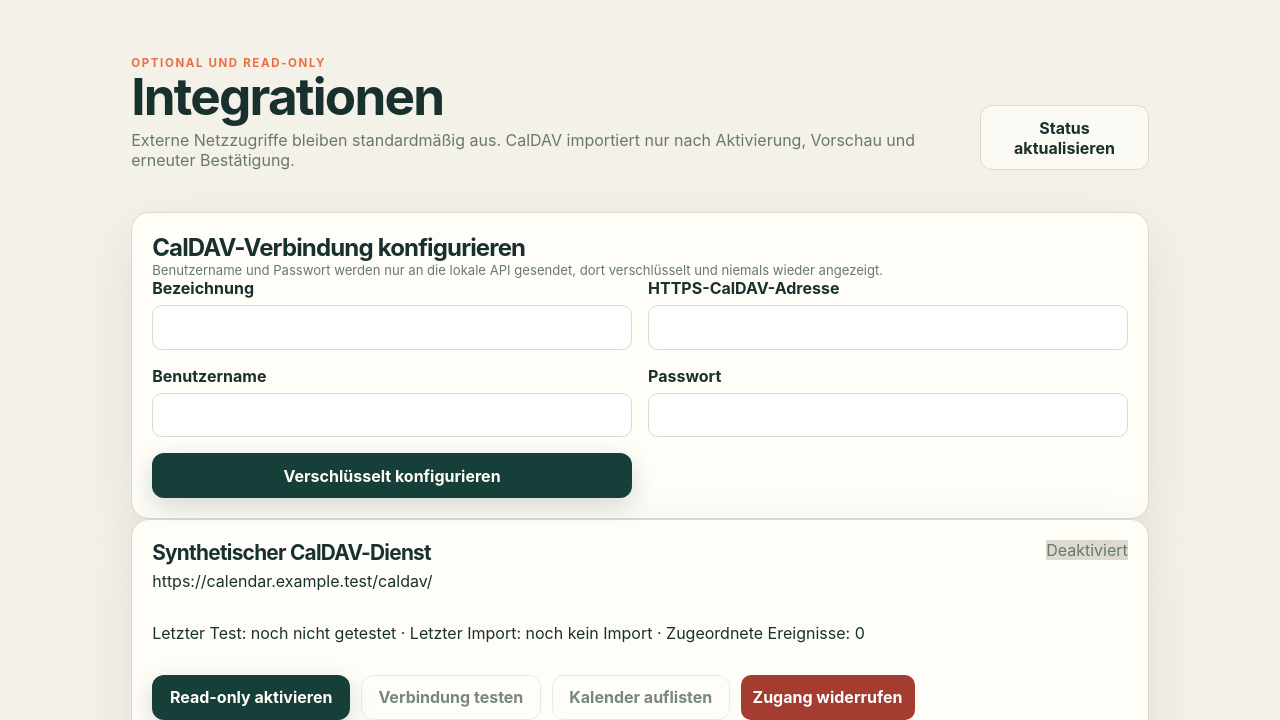
optionale Integrationen › übermittelt Zugangsdaten nur beim lokalen Konfigurieren und zeigt sie nicht an
expect the heading "Integrationen" is shown: met, box [131, 65, 443, 127]
Type "Privater Kalender" into the field labelled "Bezeichnung".
click(392, 327); type("Privater Kalender")  # box [152, 305, 632, 350]
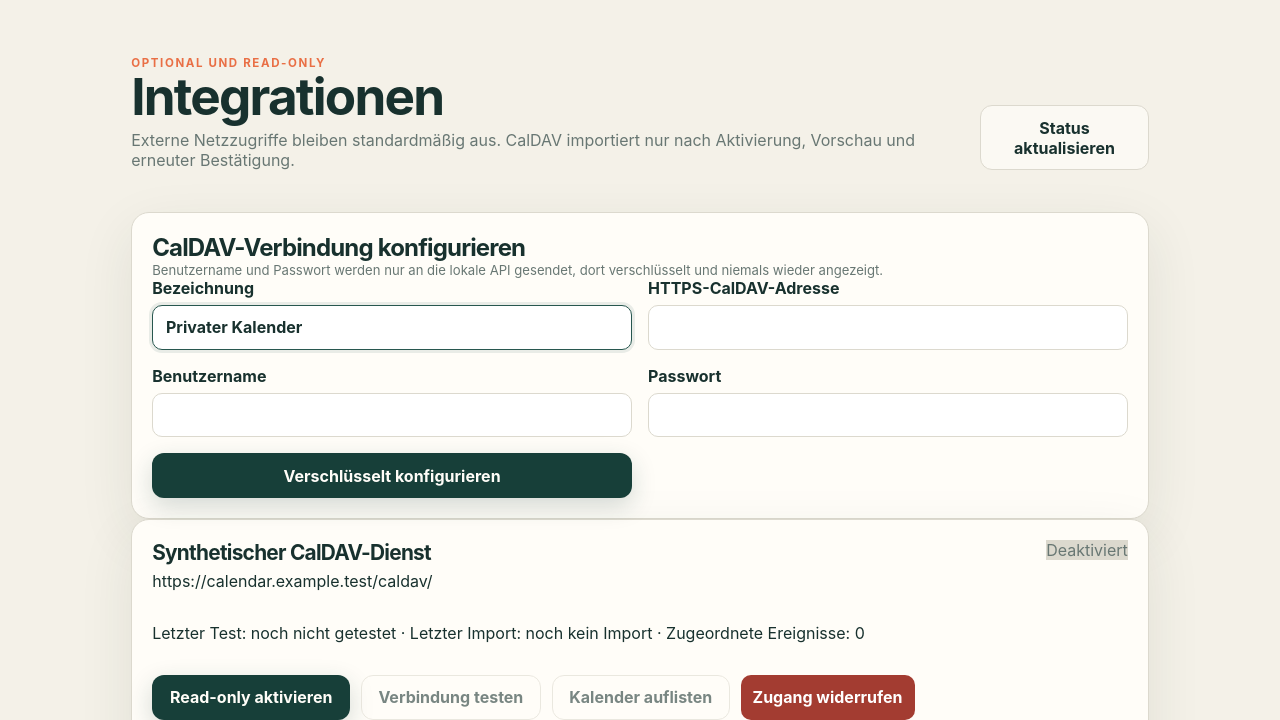
Type "https://calendar.example.test/caldav/" into the field labelled "HTTPS-CalDAV-Adresse".
click(888, 327); type("https://calendar.example.test/caldav/")  # box [648, 305, 1128, 350]
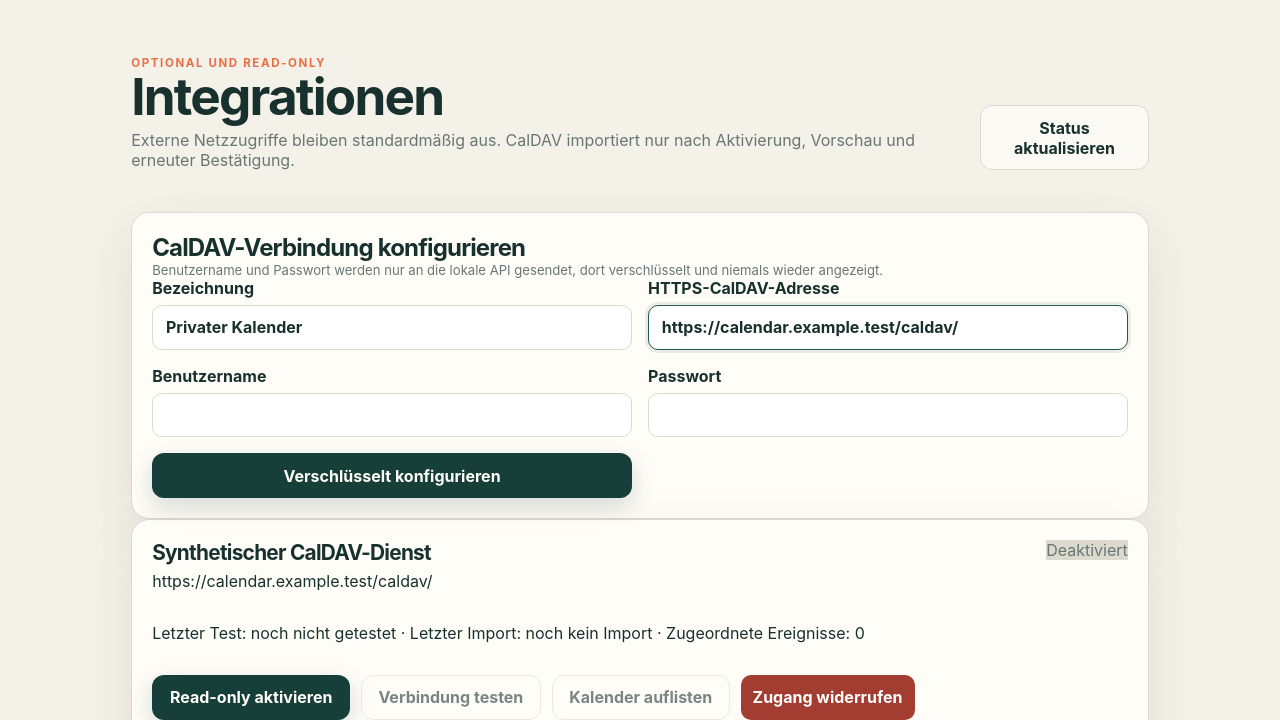
Type "synthetisch" into the field labelled "Benutzername".
click(392, 415); type("synthetisch")  # box [152, 393, 632, 437]
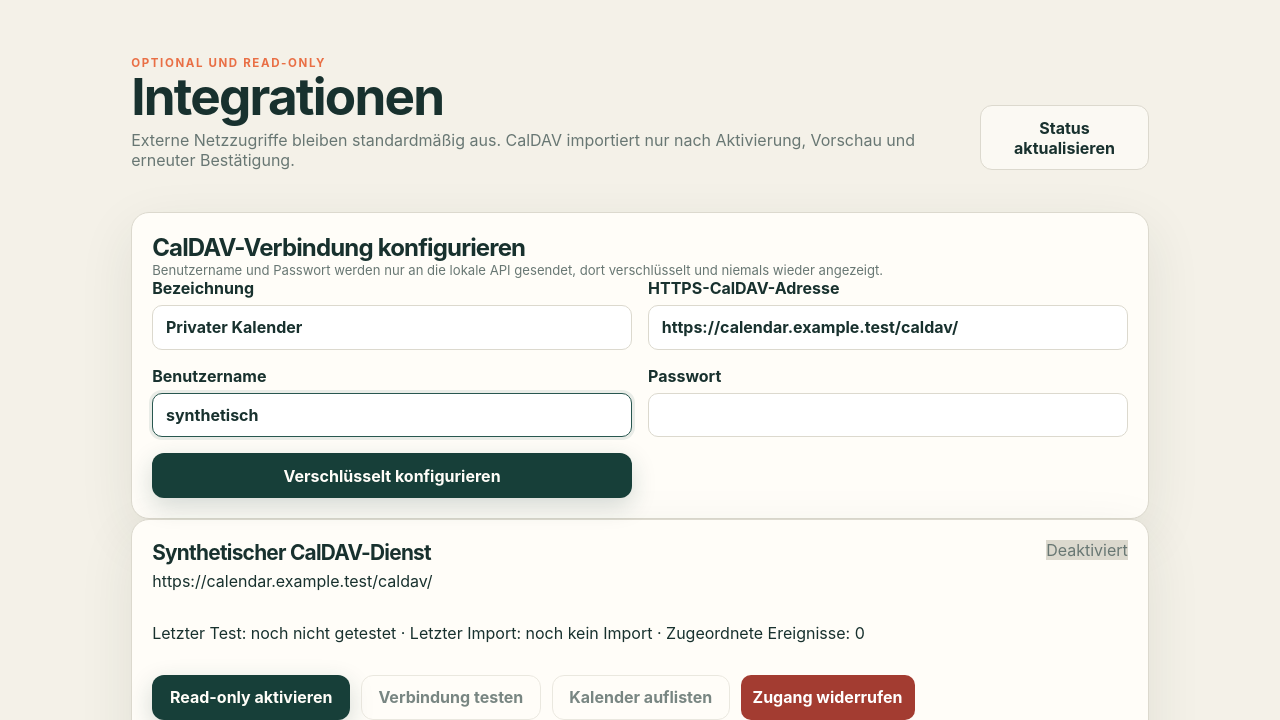
Type "synthetic-local-only" into the password field labelled "Passwort".
click(888, 415); type("synthetic-local-only")  # box [648, 393, 1128, 437]
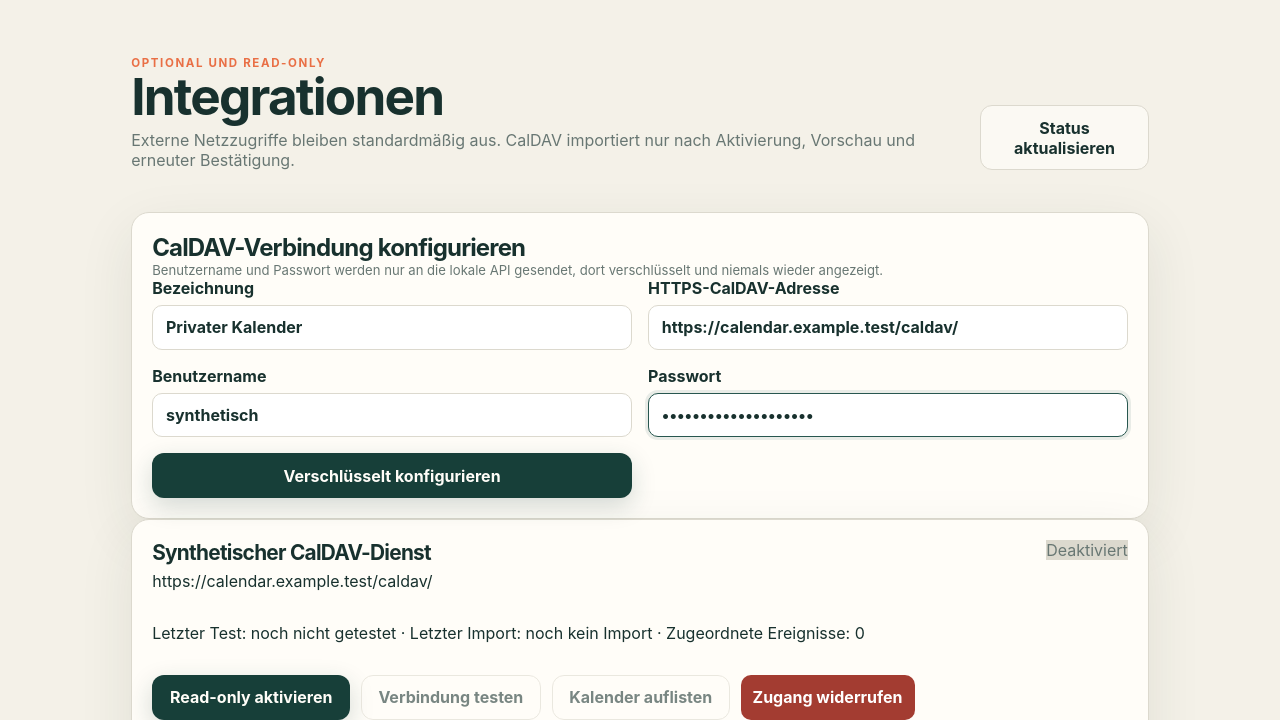
Click the button "Verschlüsselt konfigurieren".
click(392, 476)  # box [152, 453, 632, 498]
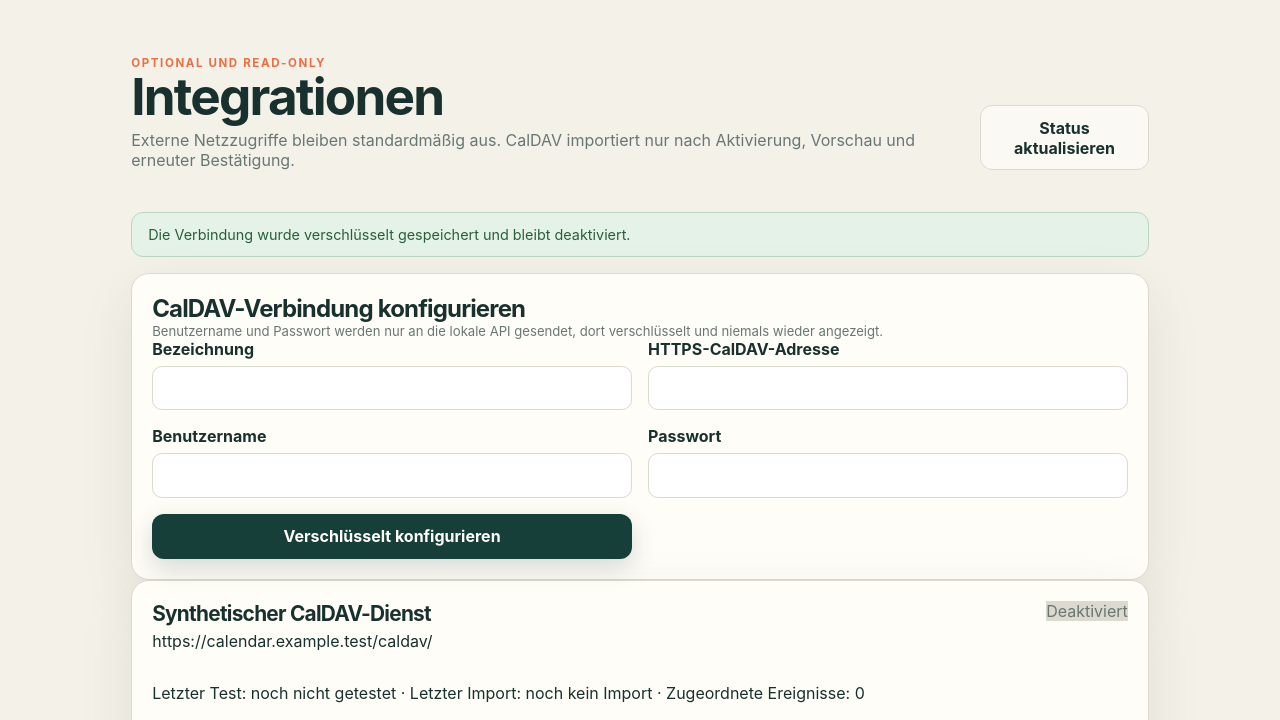
expect the text "Die Verbindung wurde verschlüsselt gespeichert und bleibt deaktiviert." is shown: met, box [131, 212, 1149, 257]
